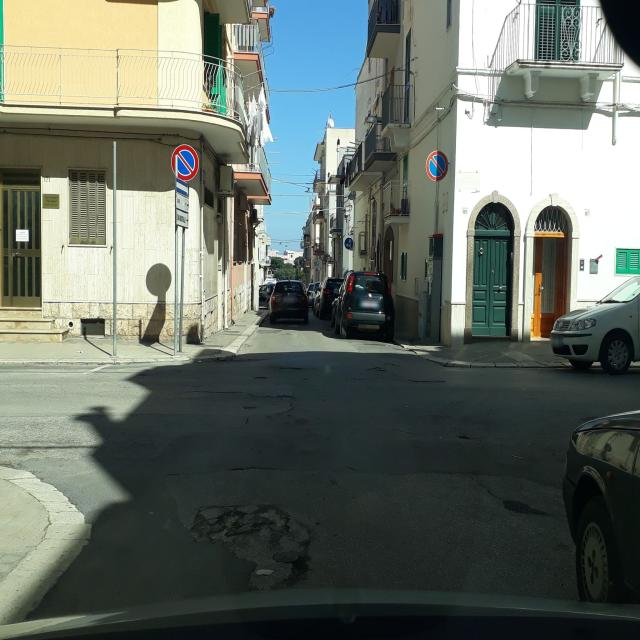forb_stopping: (173, 144, 199, 181), (426, 150, 447, 182)
